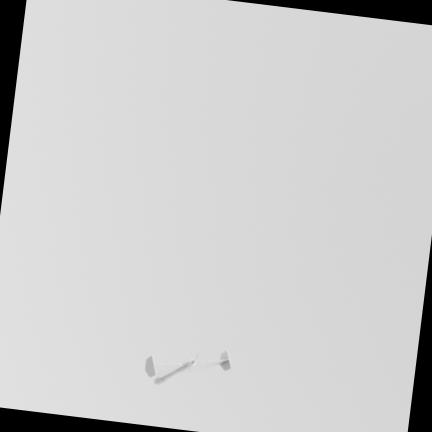Shahed: (144, 350, 230, 383)
